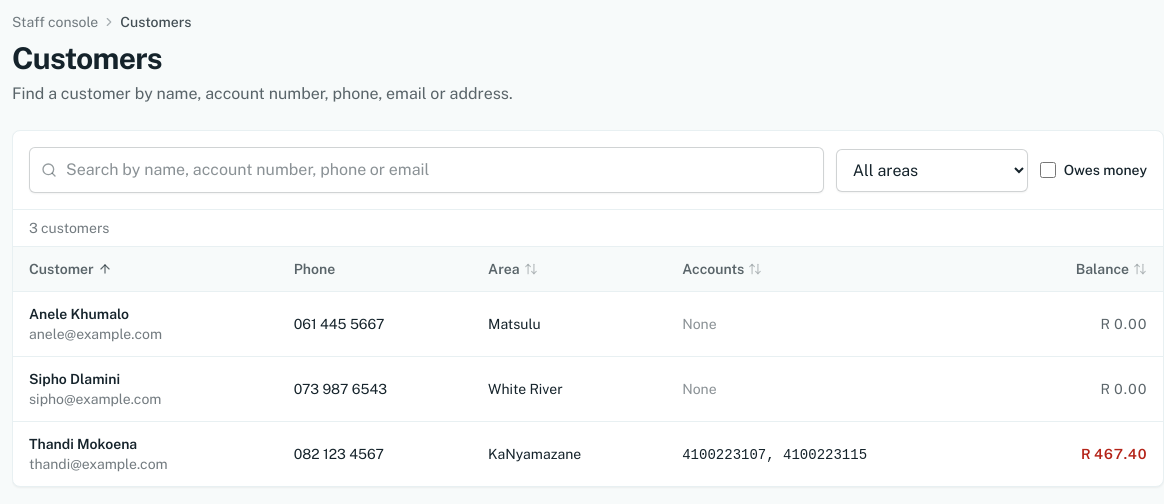
Test case: CustomersPage › finds a customer by phone number typed with spaces
This screenshot has width=1164, height=504.
Check: the text "3 customers" is shown, box [13,210,1163,247]
Type "073 987" into the search field at coordinates (426, 170), box [29,147,824,193]
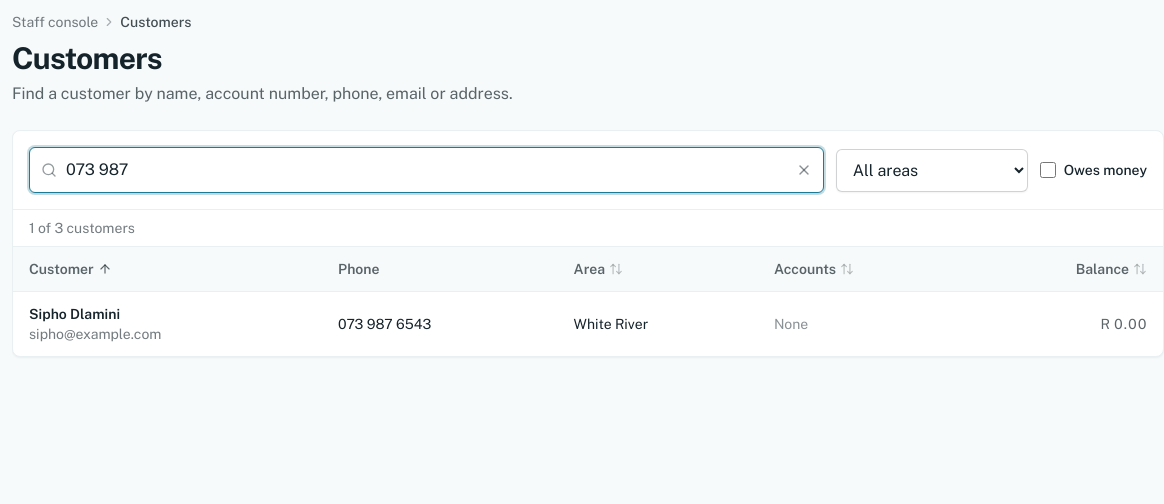
Check: the text "1 of 3 customers" is shown, box [13,210,1163,247]
